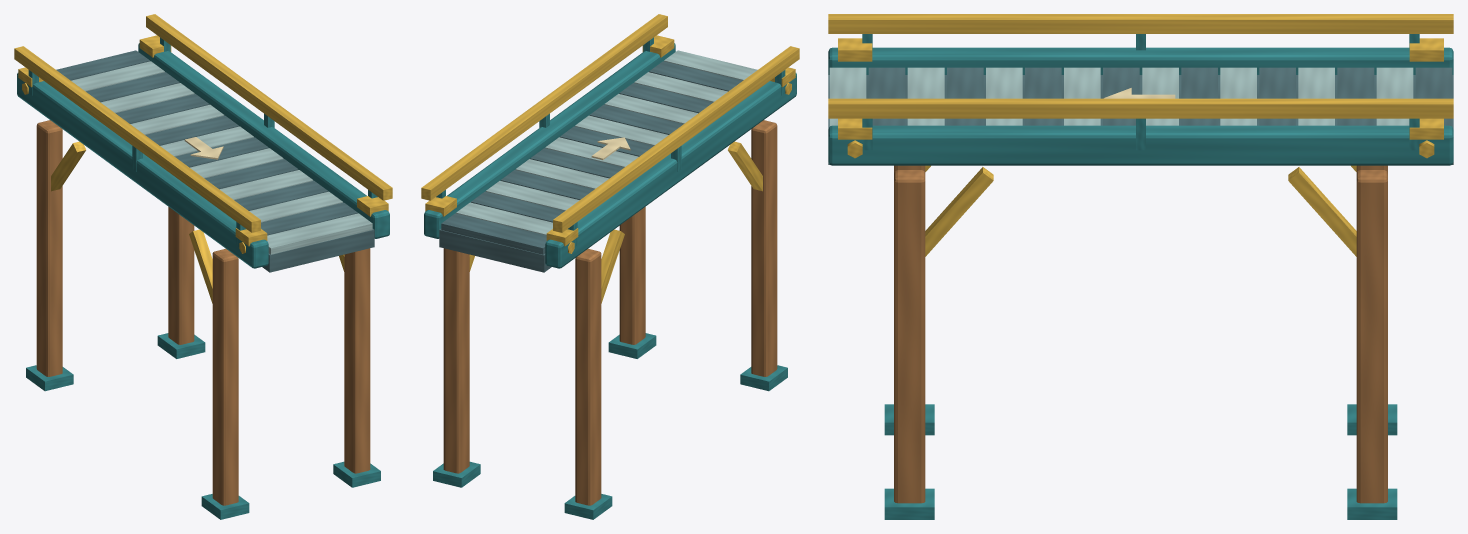
File: industry-bridge.glb
The picture shows the model from 3 angles, left to right: view 1: azimuth 30°, elevation 25°; view 2: azimuth 150°, elevation 25°; view 3: azimuth 270°, elevation 25°; orthographic projection. The views are drawn at different scales.
Parts seen in each view (by area): view 1: industry-bridge-mesh; view 2: industry-bridge-mesh; view 3: industry-bridge-mesh.
Boxes of the visible parts, <box> form: industry-bridge-mesh: <box>14,14,392,519</box>; industry-bridge-mesh: <box>421,14,799,519</box>; industry-bridge-mesh: <box>828,14,1453,519</box>.
Bounding box in the file's own units: 1.56 × 2.89 × 4.
1 material, 1 textured.
